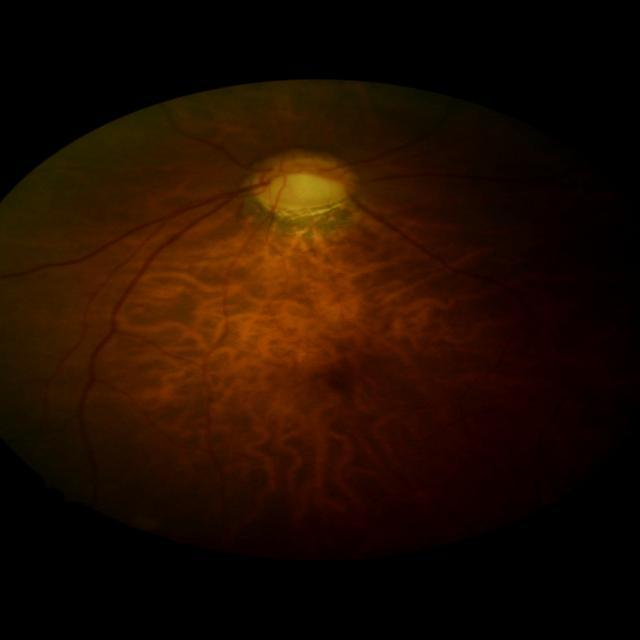cup: (264, 171, 344, 206)
disk: (250, 154, 358, 212)
